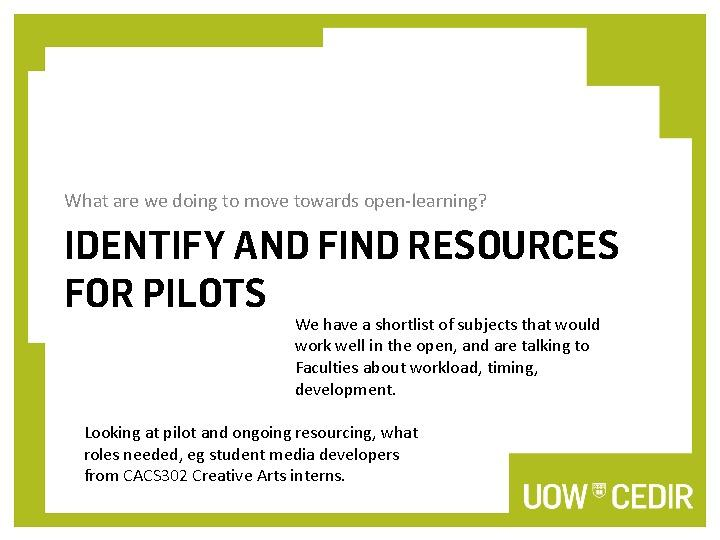paragraph: (62, 313, 633, 496)
title: (60, 176, 657, 311)
